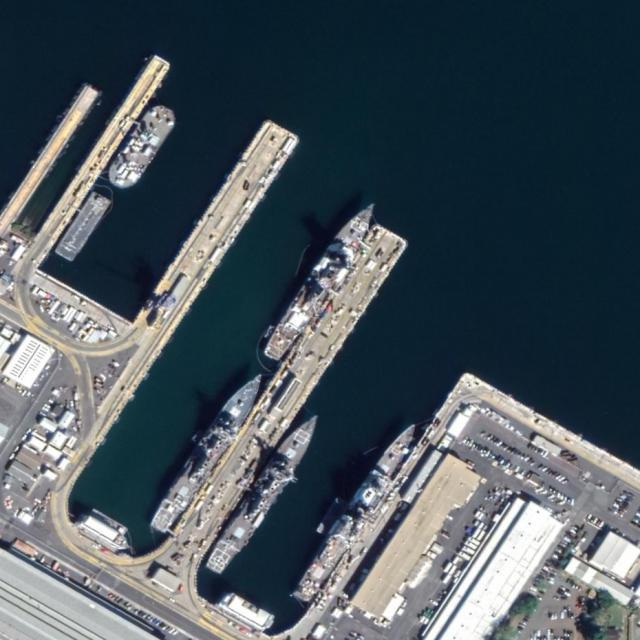Cruiser: (292, 419, 420, 604)
Destroyer: (259, 195, 382, 368)
Dock: (171, 222, 406, 560), (133, 116, 301, 341), (23, 55, 171, 264)
Frigate: (149, 369, 270, 537), (206, 406, 324, 578)
Other Ship: (104, 97, 181, 195)
